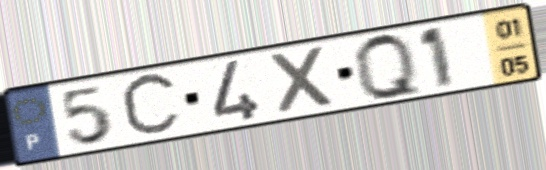1: (417, 24, 458, 91)
4: (209, 56, 263, 124)
5: (61, 82, 117, 149)
C: (117, 68, 185, 143)
Q: (350, 31, 427, 103)
X: (266, 42, 340, 118)
